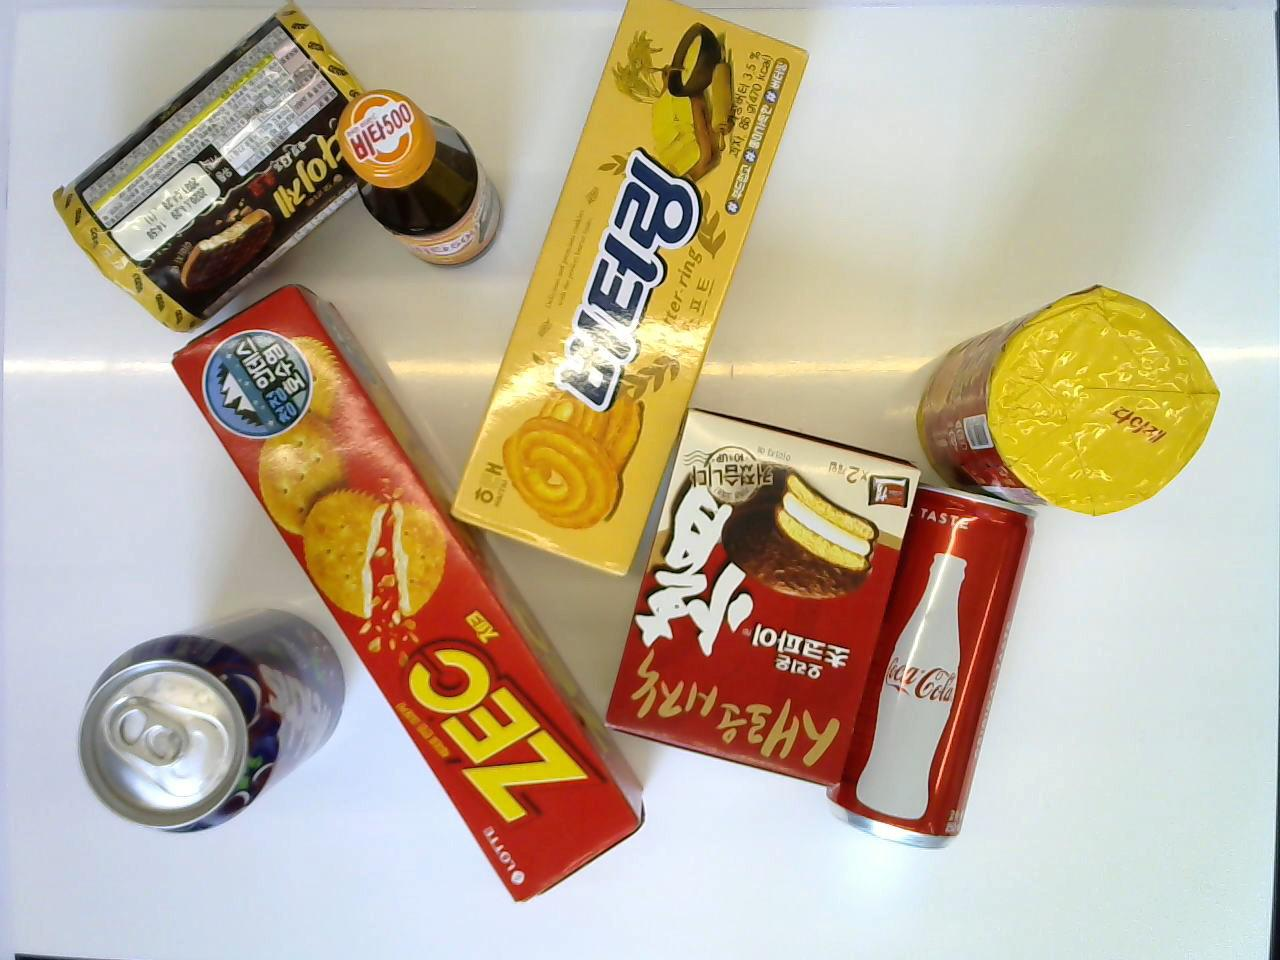buttering: (445, 0, 812, 577)
chocopie: (598, 402, 924, 796)
coke: (825, 478, 1042, 853)
diget_choco: (49, 1, 395, 337)
diget_ori: (915, 282, 1222, 520)
vita500: (339, 89, 506, 269)
welchs: (74, 605, 348, 840)
zec: (170, 286, 645, 913)
